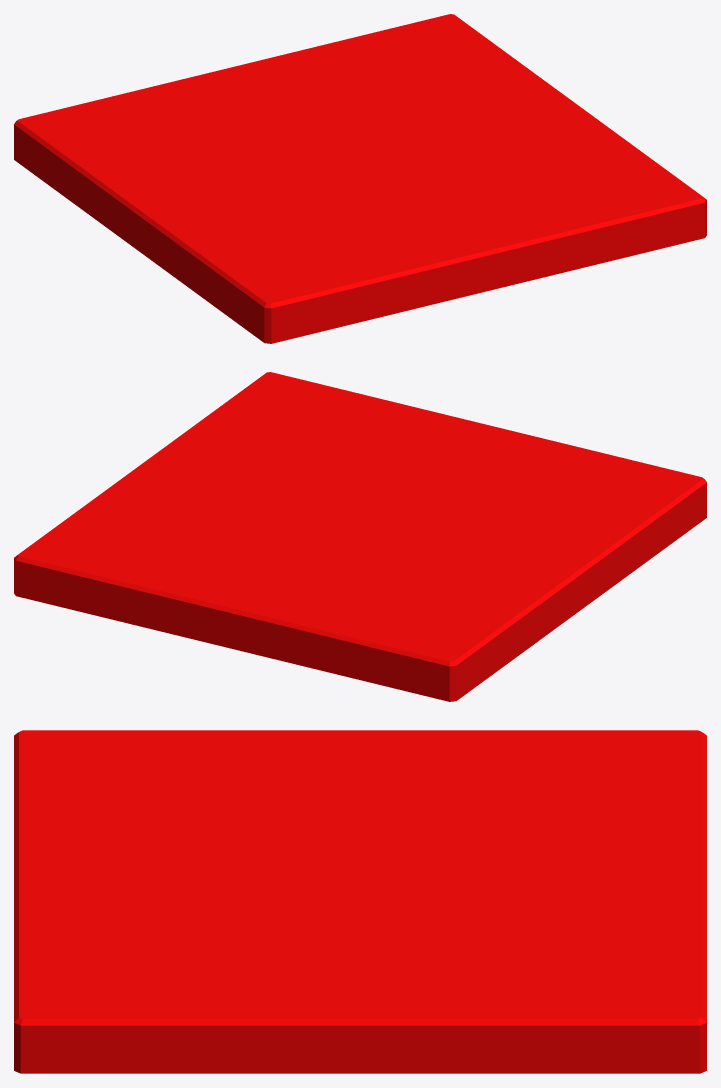
File: Ice.FBX
3 renders of one model, top to bottom at view 1: azimuth 30°, elevation 25°; view 2: azimuth 150°, elevation 25°; view 3: azimuth 270°, elevation 25°, orthographic. The views are drawn at different scales.
Visible parts, largest first — view 1: Object001; view 2: Object001; view 3: Object001.
Boxes of the visible parts, box(x1,y1,x2,y2) form: Object001: box(14, 14, 706, 343); Object001: box(14, 372, 706, 701); Object001: box(14, 730, 706, 1073).
Bounding box in the file's own units: 123 × 123 × 10.33.
